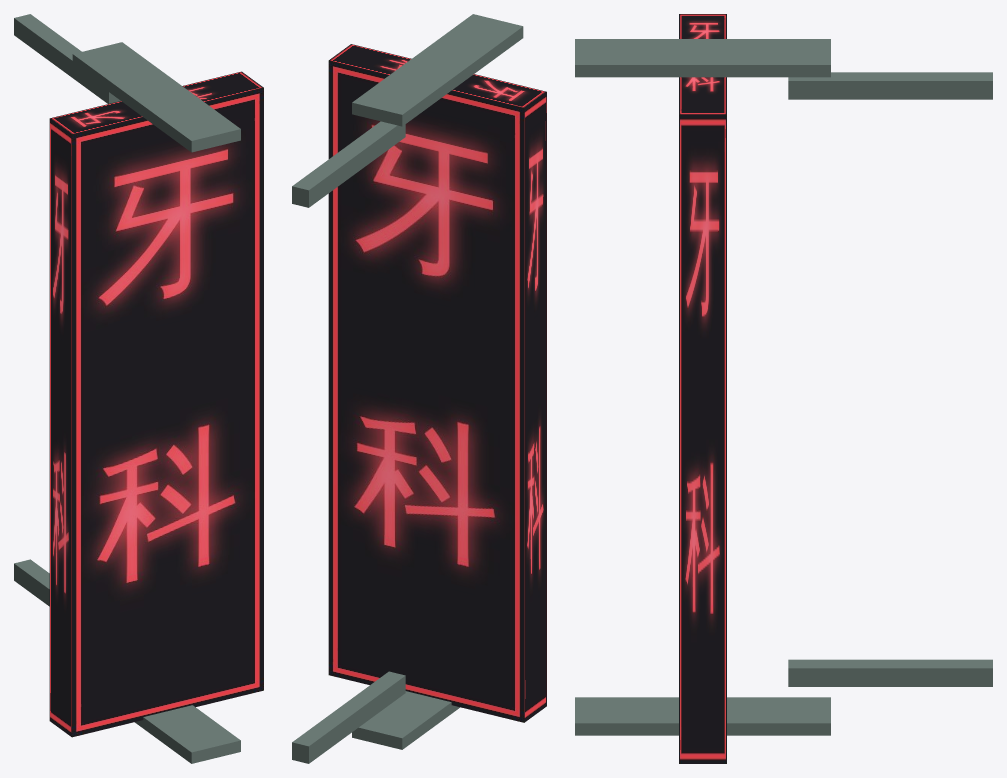
File: sign_0.glb
3 renders of one model, left to right at view 1: azimuth 30°, elevation 25°; view 2: azimuth 150°, elevation 25°; view 3: azimuth 270°, elevation 25°, orthographic. The views are drawn at different scales.
Parts seen in each view (by area): view 1: sign_0; view 2: sign_0; view 3: sign_0.
Part boxes in pixels (x1,y1,x2,y2): sign_0: (14, 14, 263, 763); sign_0: (292, 14, 546, 763); sign_0: (575, 14, 992, 763).
Size of the model in its own units: 0.7 by 2.17 by 1.23.
2 materials, 1 textured.
